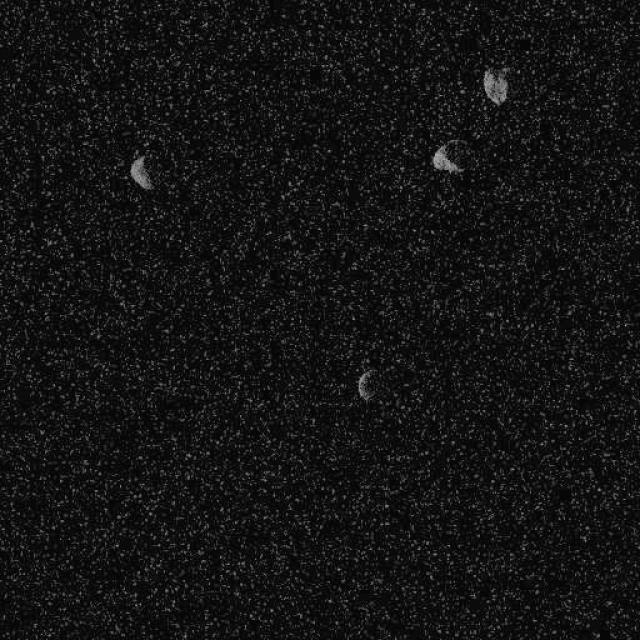D2: (430, 137, 468, 175), (481, 66, 509, 105), (128, 154, 154, 190), (357, 368, 378, 402)
